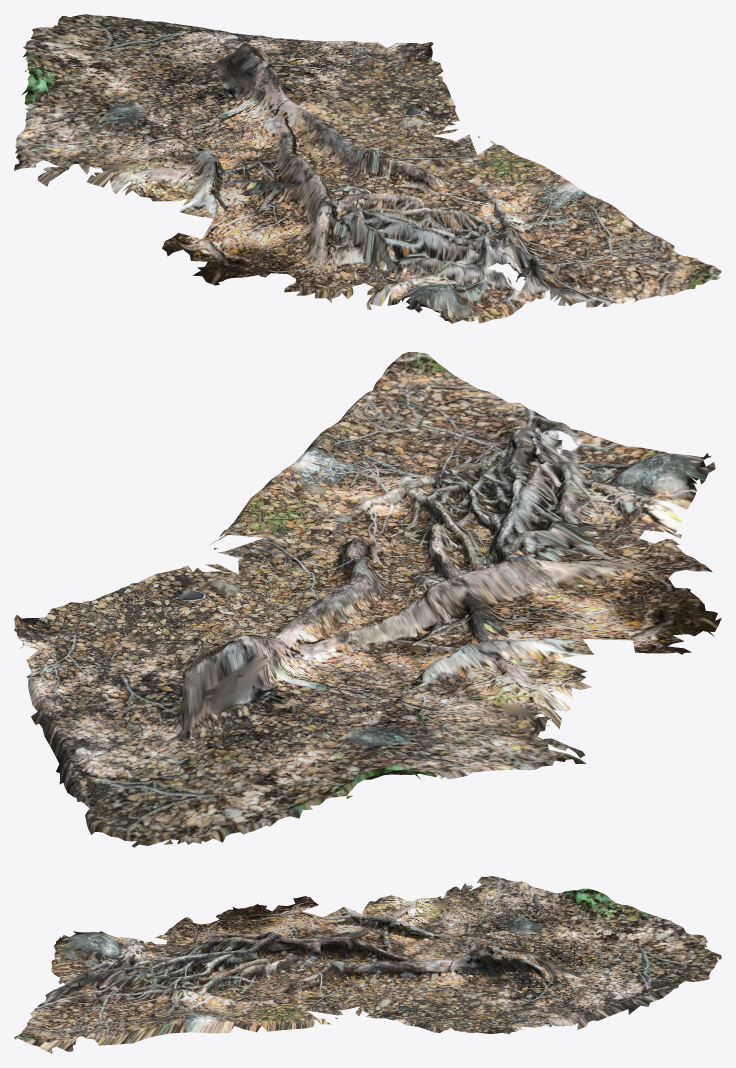
The model's file is metascan_20230505-1208.obj.
3 renders of one model, top to bottom at view 1: azimuth 30°, elevation 25°; view 2: azimuth 150°, elevation 25°; view 3: azimuth 270°, elevation 25°, orthographic. The views are drawn at different scales.
Parts seen in each view (by area): view 1: mesh_0; view 2: mesh_0; view 3: mesh_0.
Boxes of the visible parts, bbox=[...] form: mesh_0: bbox=[14, 14, 721, 323]; mesh_0: bbox=[14, 352, 721, 847]; mesh_0: bbox=[14, 876, 721, 1053].
Bounding box in the file's own units: 2.95 × 0.3726 × 5.22.
1 material, 1 textured.
